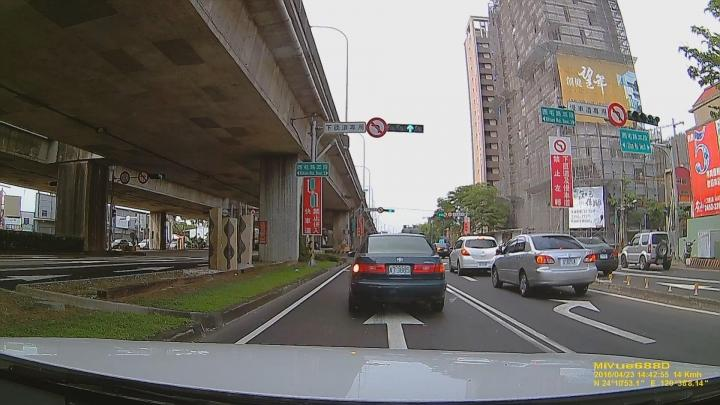no_left_turn: (607, 102, 625, 126), (366, 117, 386, 137)
